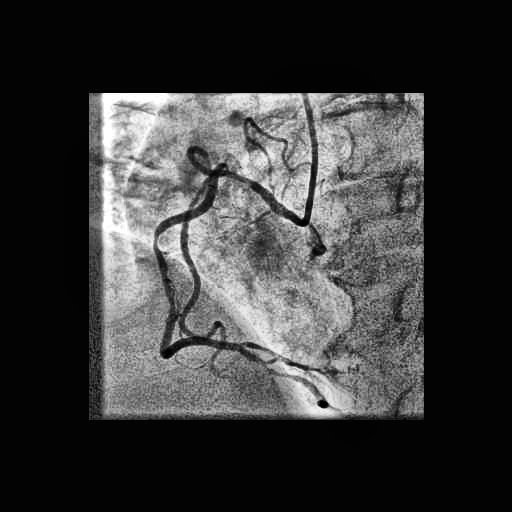pborca: (240, 342, 334, 375)
pda: (239, 348, 330, 408)
rca: (153, 165, 303, 358)
